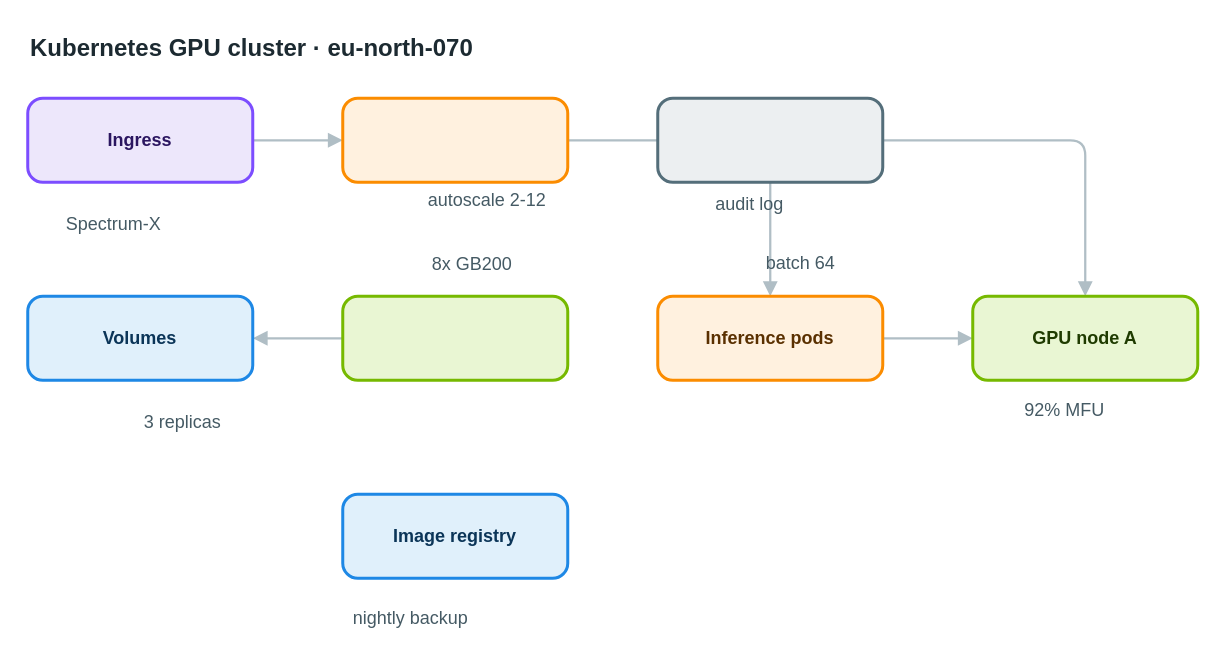
Image size: 1224x659. Some labels were removed from this diagram. The centre of each missing label's shape, as x and y in pixels:
API service: pixel 454 139
GPU operator: pixel 770 139
Trainer pods: pixel 454 337
